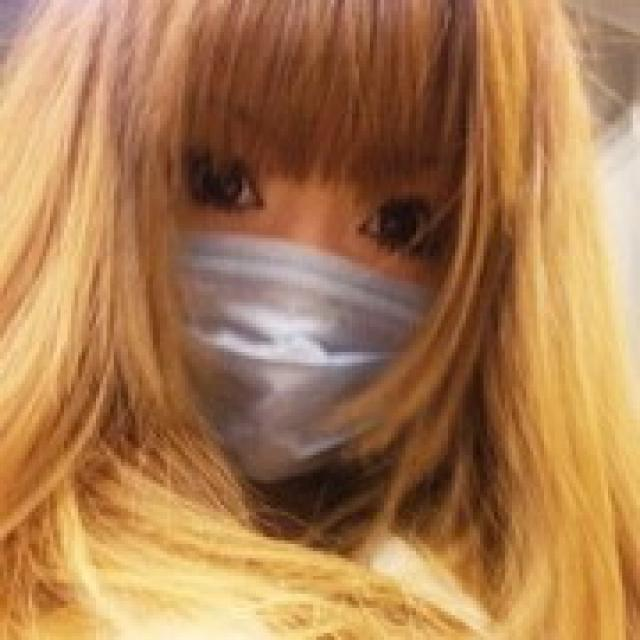mask: (119, 0, 478, 473)
